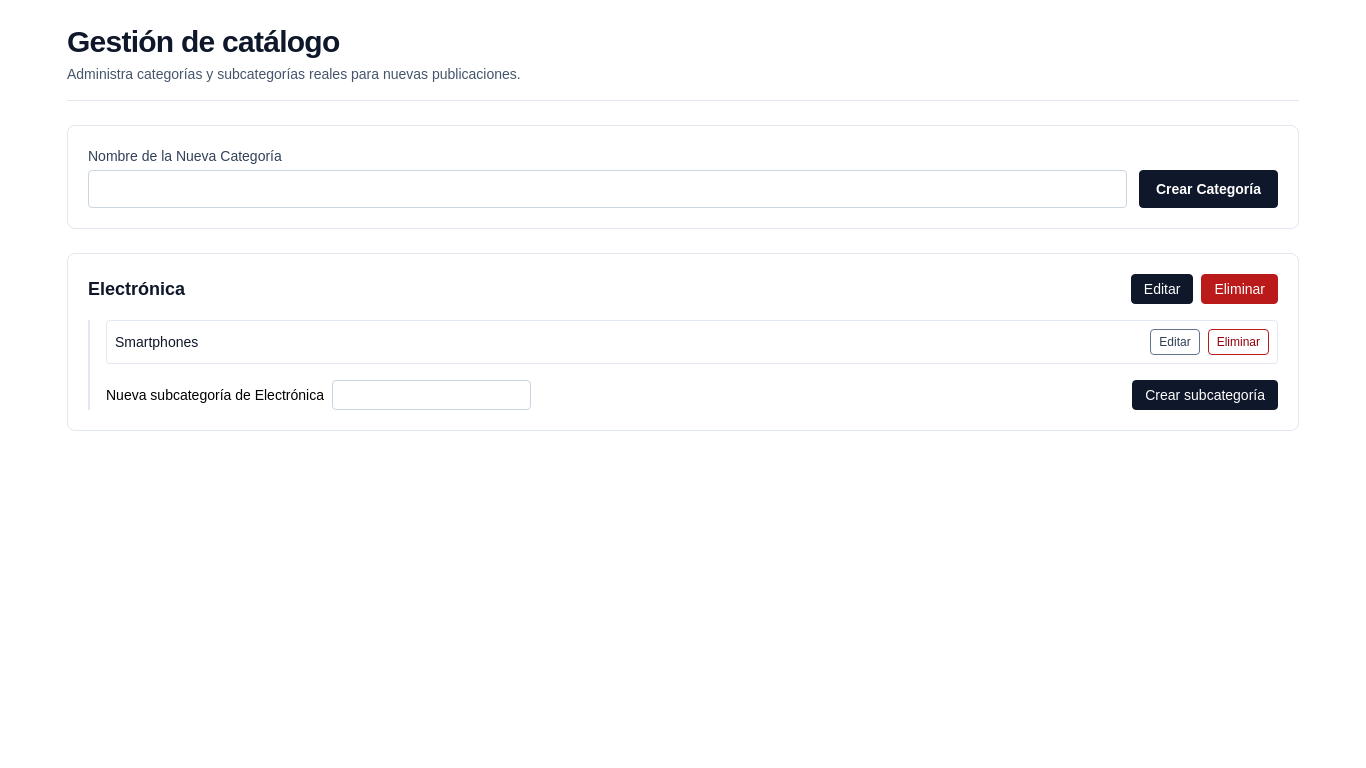
Test: PHA02TSK14 - Parte A: PanelCategorias › envía creación de categoría exitosamente a POST /categorias
Type "Deportes" into the field labelled "Nombre de la Nueva Categoría" at (608, 189), box [88,170,1127,208]
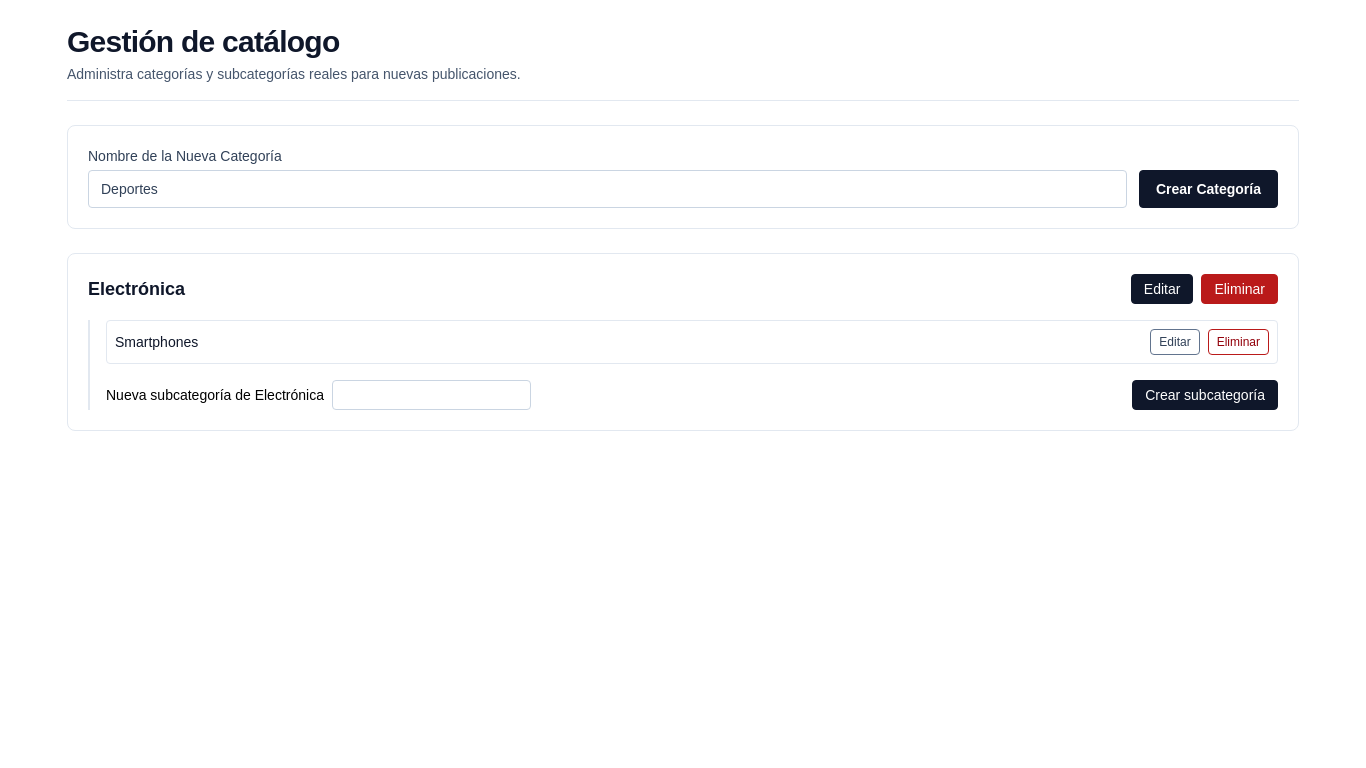
Click the button "Crear Categoría" at (1208, 189), box [1139,170,1278,208]
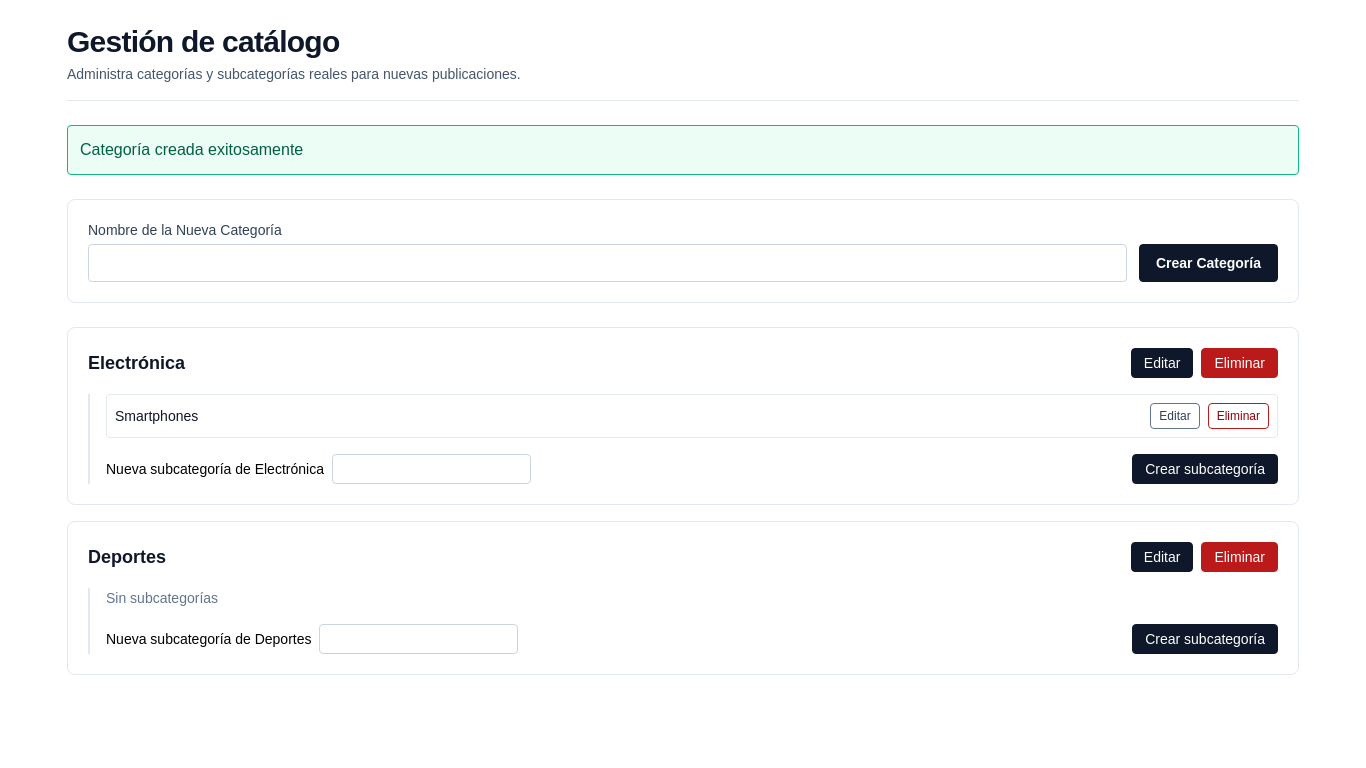
Expected: the text "Categoría creada exitosamente" is shown, [67,125,1299,175]
